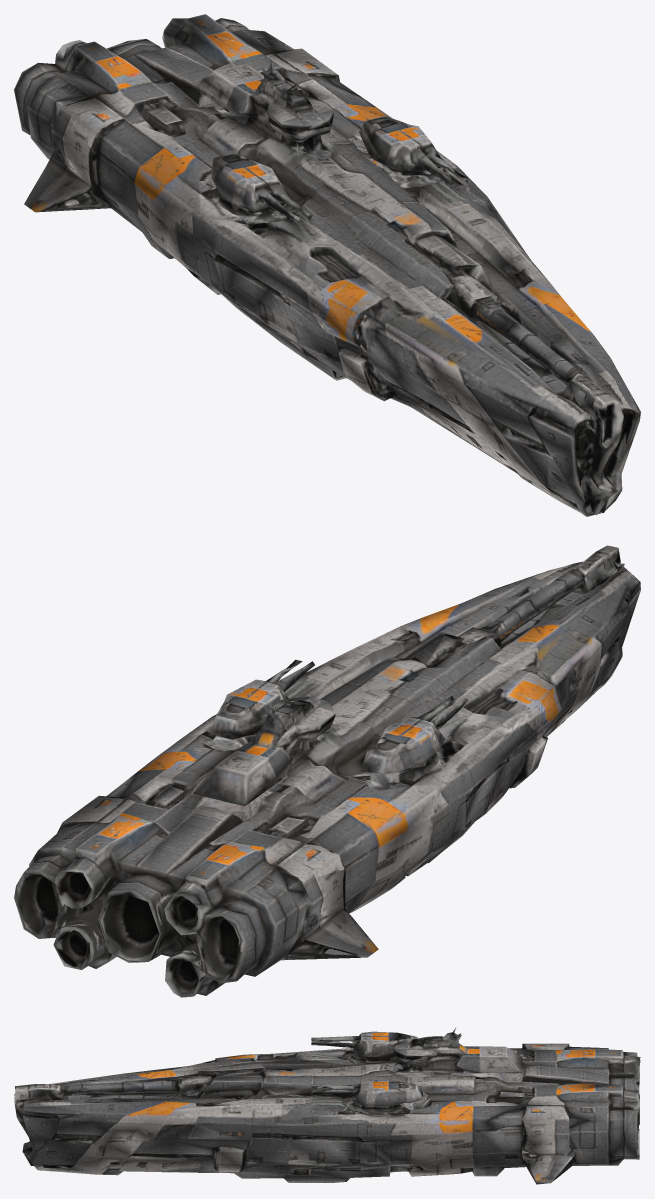
Rendered from tripo-rebaked-3000.glb.
The picture shows the model from 3 angles, top to bottom: view 1: azimuth 30°, elevation 25°; view 2: azimuth 150°, elevation 25°; view 3: azimuth 270°, elevation 25°; orthographic projection. The views are drawn at different scales.
Parts seen in each view (by area): view 1: Low; view 2: Low; view 3: Low.
Boxes of the visible parts, x1,y1,x2,y2 form: Low: (14, 14, 640, 516); Low: (14, 545, 640, 997); Low: (14, 1027, 640, 1184).
Size of the model in its own units: 0.3985 by 0.2541 by 0.9812.
Materials: 1 (1 with a texture image).
